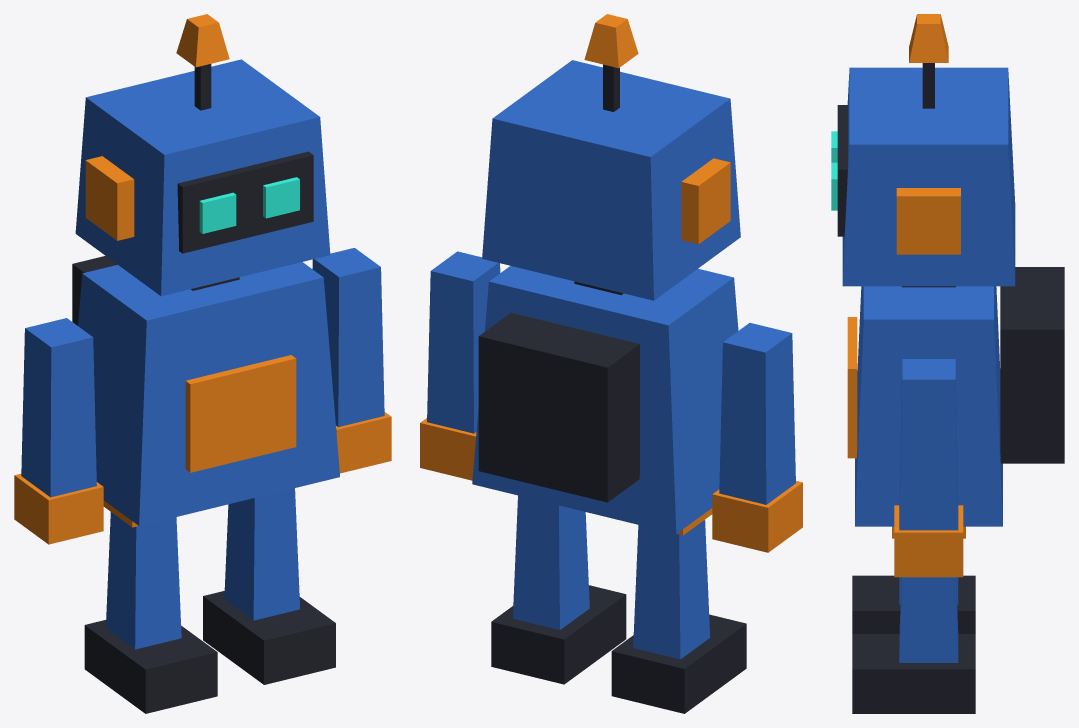
File: Bolt.obj
The picture shows the model from 3 angles, left to right: view 1: azimuth 30°, elevation 25°; view 2: azimuth 150°, elevation 25°; view 3: azimuth 270°, elevation 25°; orthographic projection.
Parts seen in each view (by area): view 1: Bolt; view 2: Bolt; view 3: Bolt.
Boxes of the visible parts, bbox=[...] form: Bolt: bbox=[14, 14, 391, 713]; Bolt: bbox=[420, 14, 802, 713]; Bolt: bbox=[831, 14, 1064, 713].
Bounding box in the file's own units: 1.62 × 2.9 × 0.945.
